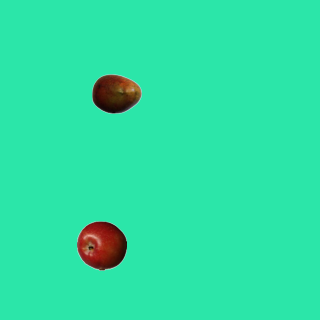Apple Braeburn: (76, 220, 126, 270)
Mango Red: (91, 68, 141, 118)
